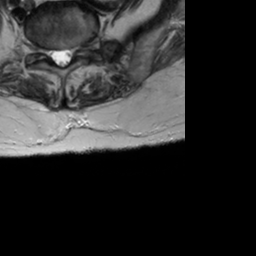CCS_normal: (58, 42, 65, 71)
LFS_stenosis: (74, 39, 83, 59)
LLS_normal: (66, 43, 74, 64)
RFS_stenosis: (40, 42, 49, 62)
RLS_normal: (50, 44, 57, 64)
